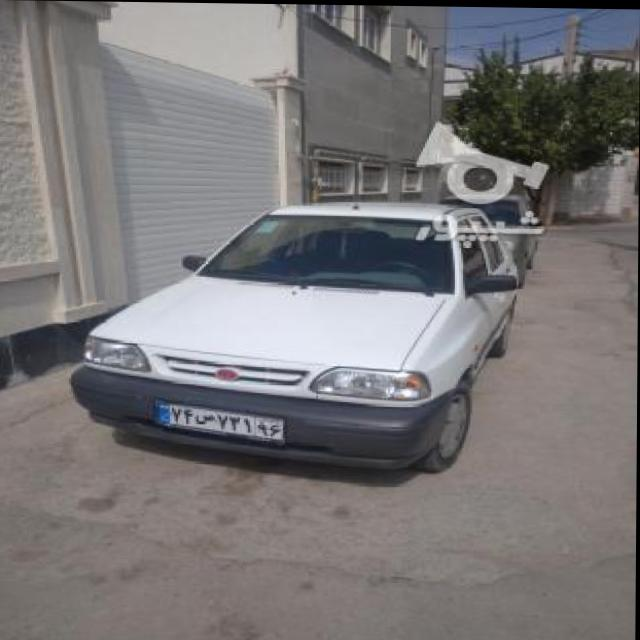licence: (152, 396, 288, 443)
